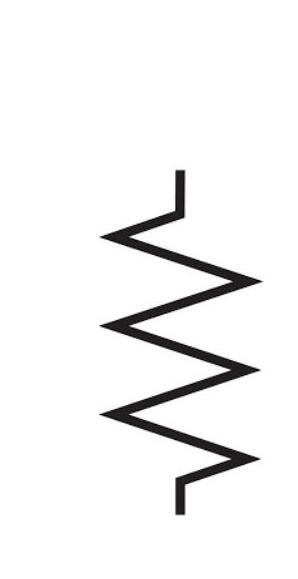resistor: (68, 166, 270, 507)
